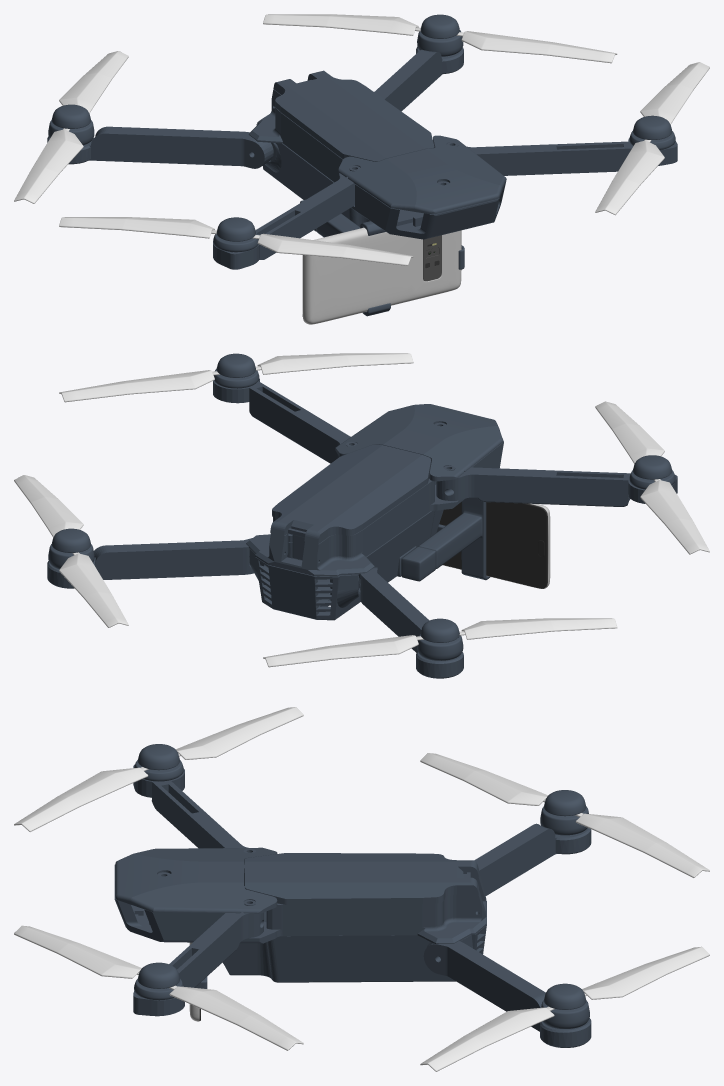
Rendered from Drone.fbx.
The picture shows the model from 3 angles, top to bottom: view 1: azimuth 30°, elevation 25°; view 2: azimuth 150°, elevation 25°; view 3: azimuth 270°, elevation 25°; orthographic projection. The views are drawn at different scales.
Visible parts, largest first — view 1: Bottom.001, Cube.001, Bottom.003, Bottom.005, Bottom.002, Bottom.004, Cube.002; view 2: Bottom.001, Cube, Bottom.002, Bottom.004, Bottom.005, Bottom.003; view 3: Bottom.001, Bottom.005, Bottom.002, Bottom.003, Bottom.004.
Boxes of the visible parts, x1=… form: Bottom.001: x1=47, y1=14, x2=677, y2=316; Cube.001: x1=302, y1=227, x2=461, y2=324; Bottom.003: x1=263, y1=14, x2=617, y2=63; Bottom.005: x1=59, y1=217, x2=413, y2=265; Bottom.002: x1=14, y1=51, x2=128, y2=203; Bottom.004: x1=595, y1=62, x2=709, y2=215; Cube.002: x1=423, y1=235, x2=441, y2=281; Bottom.001: x1=47, y1=353, x2=677, y2=678; Cube: x1=439, y1=502, x2=547, y2=588; Bottom.002: x1=263, y1=618, x2=617, y2=667; Bottom.004: x1=59, y1=353, x2=413, y2=402; Bottom.005: x1=595, y1=401, x2=709, y2=554; Bottom.003: x1=14, y1=475, x2=128, y2=627; Bottom.001: x1=114, y1=744, x2=591, y2=1047; Bottom.005: x1=14, y1=707, x2=303, y2=831; Bottom.002: x1=420, y1=753, x2=709, y2=877; Bottom.003: x1=420, y1=946, x2=709, y2=1071; Bottom.004: x1=14, y1=925, x2=303, y2=1050.
Bounding box in the file's own units: 310 × 64.22 × 267.
